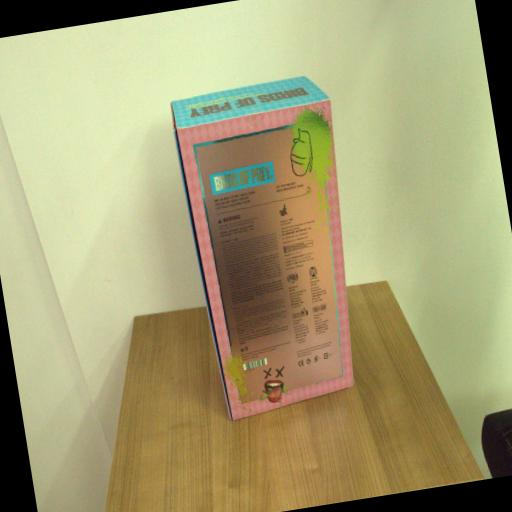Harley: (168, 68, 378, 423)
